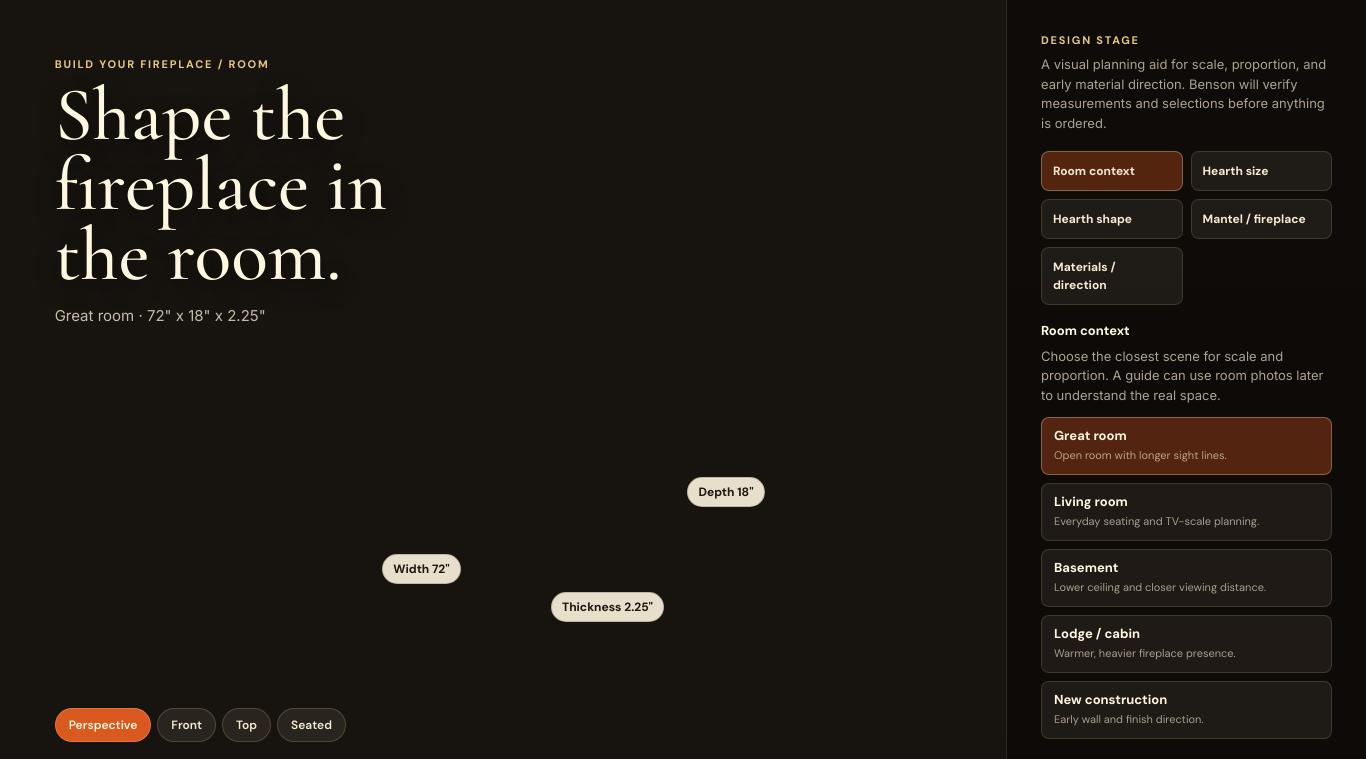
customer 3D hearth build proof slice › renders and selects room context choices as part of the same builder
The image size is (1366, 759).
Expected: the element named "Room context choices" is shown, [1041,323,1332,739]
Click the button "Basement Lower ceiling and closer viewing distance." at coordinates (1186, 578), box [1041,549,1332,607]
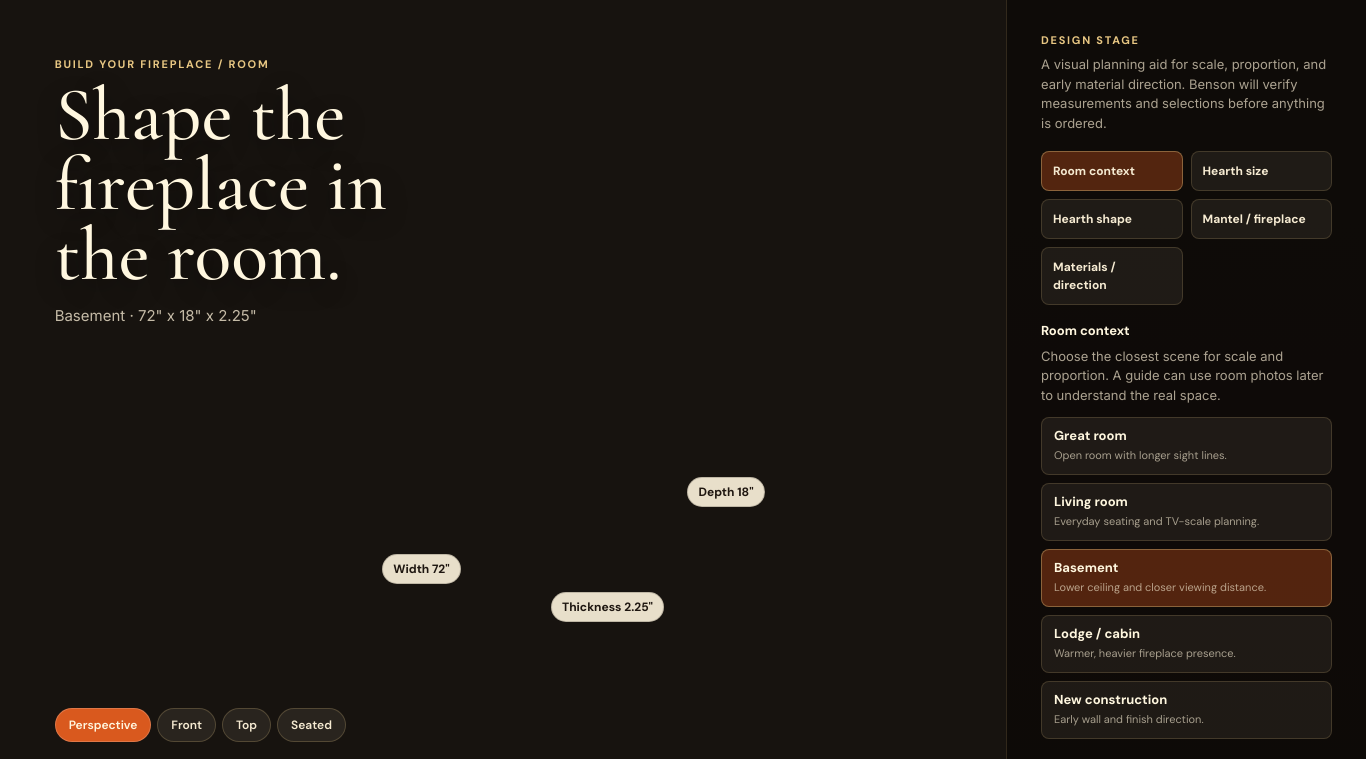
Now the text "Basement · 72\" x 18\" x 2.25\"" is shown, box [55,306,257,325]
